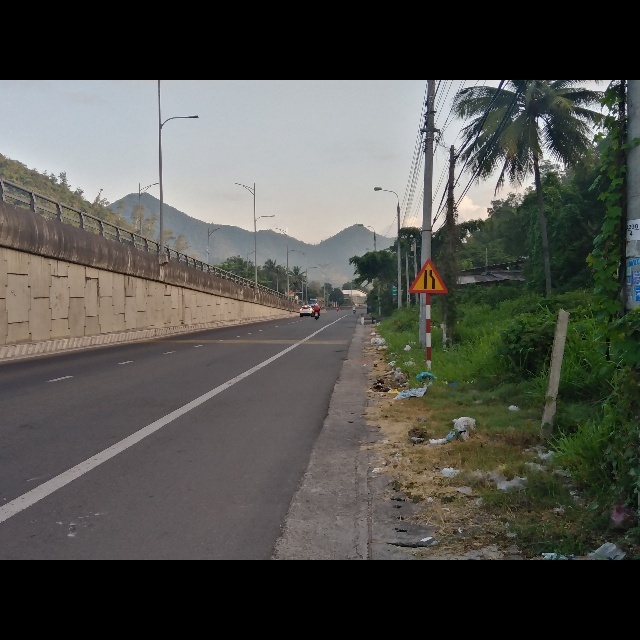Đường bị hẹp bên phải: (409, 259, 449, 294)
